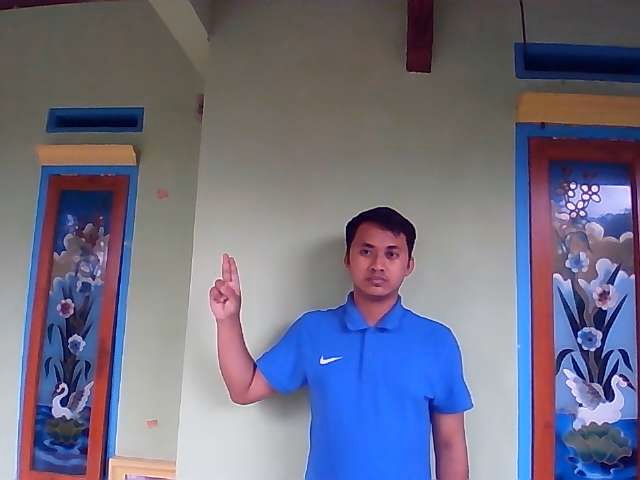U: (208, 253, 244, 319)
